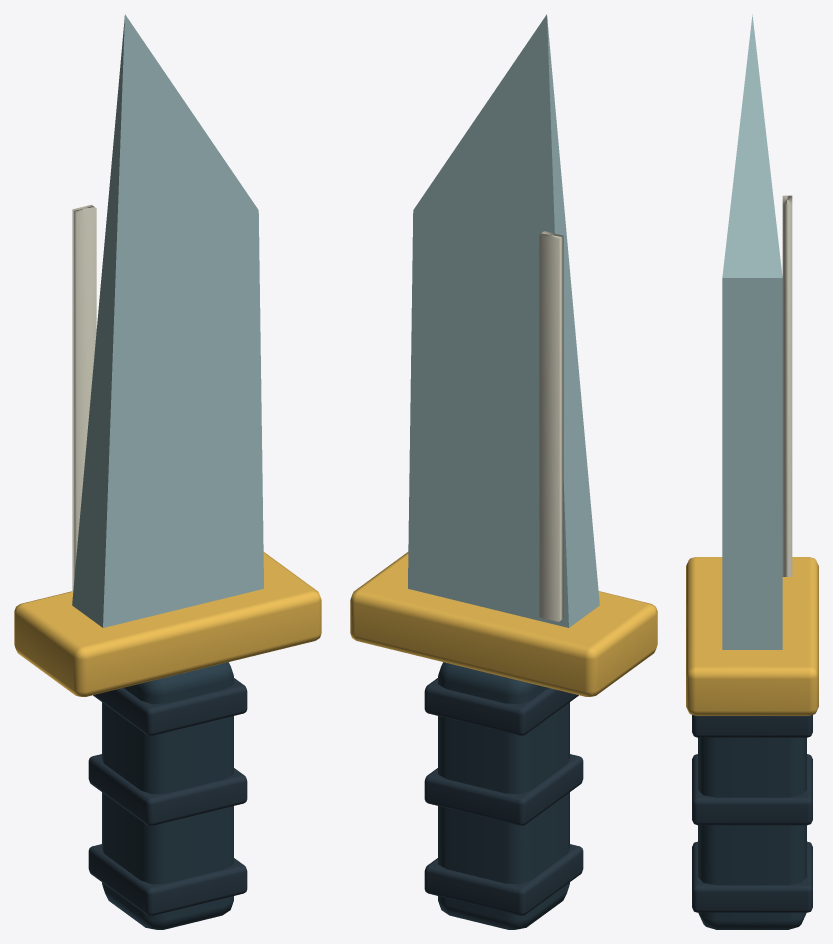
File: knife.glb
The picture shows the model from 3 angles, left to right: view 1: azimuth 30°, elevation 25°; view 2: azimuth 150°, elevation 25°; view 3: azimuth 270°, elevation 25°; orthographic projection. The views are drawn at different scales.
Visible parts, largest first — view 1: Blade, Guard, Handle.004, BladeHighlight, GripBand.001, GripBand, GripBand.002; view 2: Blade, Guard, Handle.004, BladeHighlight, GripBand.001, GripBand, GripBand.002; view 3: Blade, Guard, Handle.004, BladeHighlight, GripBand.001, GripBand, GripBand.002.
Part boxes in pixels (x1,y1,x2,y2): Blade: (72,14,263,627); Guard: (14,552,321,696); Handle.004: (102,662,233,929); BladeHighlight: (72,204,96,592); GripBand.001: (88,754,247,825); GripBand: (88,844,247,915); GripBand.002: (93,678,247,735); Blade: (408,14,599,627); Guard: (350,552,657,696); Handle.004: (438,662,569,929); BladeHighlight: (539,231,563,621); GripBand.001: (424,754,583,825); GripBand: (424,844,583,915); GripBand.002: (424,678,578,735); Blade: (722,14,782,649); Guard: (686,557,818,715); Handle.004: (698,737,806,929); BladeHighlight: (782,195,792,576); GripBand.001: (692,754,812,825); GripBand: (692,841,812,912); GripBand.002: (692,715,812,737).
Size of the model in its own units: 0.23 by 0.805 by 0.11.
